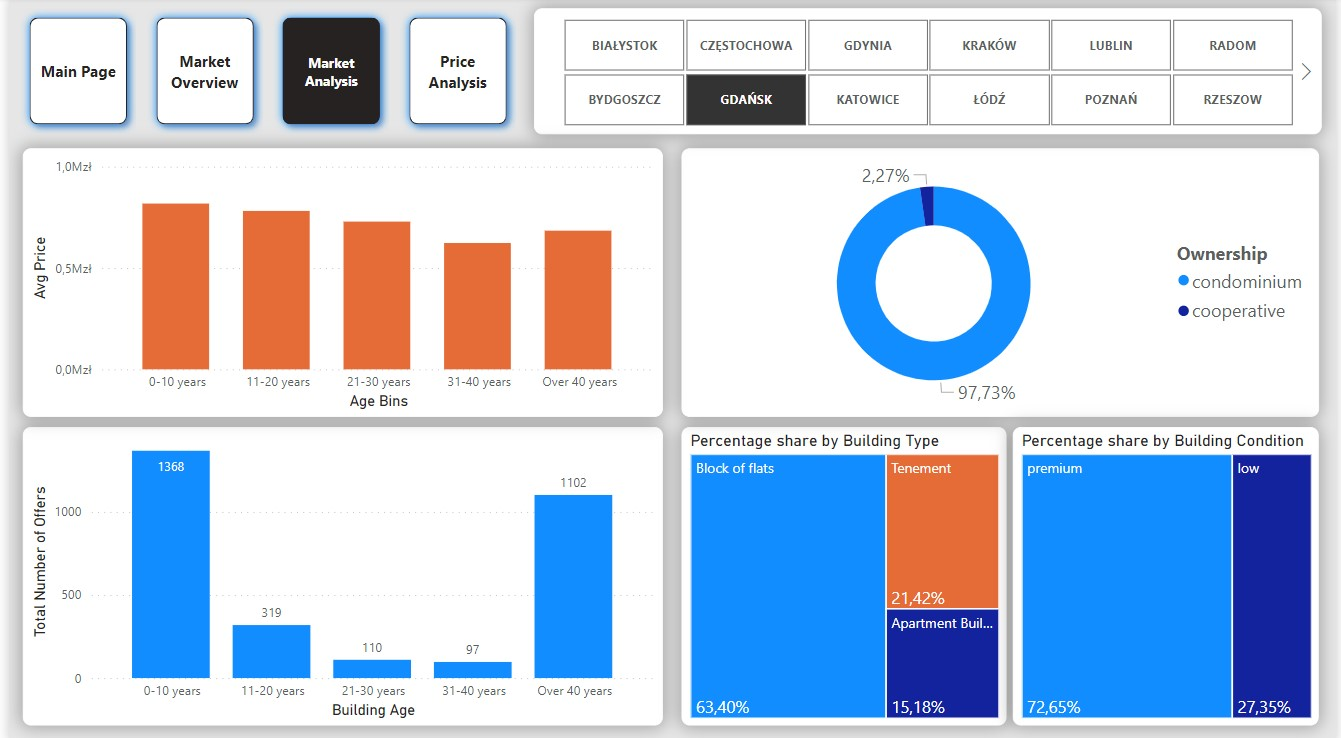

Layout of this report page (visuals, bound fields, positions):
{"tool":"powerbi","page":{"name":"Market Analysis","canvas":[1280,720],"ordinal":2},"visuals":[{"type":"columnChart","title":"Number of Offers by Building Age","fields":{"Category":["Apartments_data.Age Bins"],"Y":["_Measures.Nuber of offers"]},"box":[13.3,414.9,617.5,288.2],"z":0},{"type":"treemap","title":"Percentage share by Building Type","fields":{"Values":["_Measures.Nuber of offers"],"Group":["DIM_Building_types.building_type"]},"box":[648.8,414.9,313.6,288.2],"z":1000},{"type":"donutChart","title":"Distribution of Ownership","fields":{"Y":["_Measures.Nuber of offers"],"Category":["DIM_Ownership.ownership"]},"box":[648.8,145.9,615.1,259.3],"z":2000},{"type":"treemap","title":"Percentage share by Building Condition","fields":{"Values":["_Measures.Nuber of offers"],"Group":["FACT_Apartments_data.building_condition"]},"box":[968.4,414.9,295.5,288.2],"z":3000},{"type":"slicer","fields":{"Values":["DIM_City.city"]},"box":[506.5,10.9,759.8,121.8],"z":4000},{"type":"pageNavigator","box":[11.2,11.2,481.2,121.2],"z":5000},{"type":"columnChart","title":"Average Price by Building Age","fields":{"Category":["Apartments_data.Age Bins","FACT_Apartments_data.Age of Building"],"Y":["_Measures.Avg Price"]},"box":[13.3,145.9,617.5,259.3],"z":6000}]}

Visuals, with their boxes in screenshot pixels (x1, y1, x2, y2), scaled from the page's 1280x720 canvas onto the 1341x738 screenshot:
"Number of Offers by Building Age" columnChart: region(14, 425, 661, 721)
"Percentage share by Building Type" treemap: region(680, 425, 1008, 721)
"Distribution of Ownership" donutChart: region(680, 150, 1324, 415)
"Percentage share by Building Condition" treemap: region(1015, 425, 1324, 721)
slicer - DIM_City.city: region(531, 11, 1327, 136)
pageNavigator: region(12, 11, 516, 136)
"Average Price by Building Age" columnChart: region(14, 150, 661, 415)
